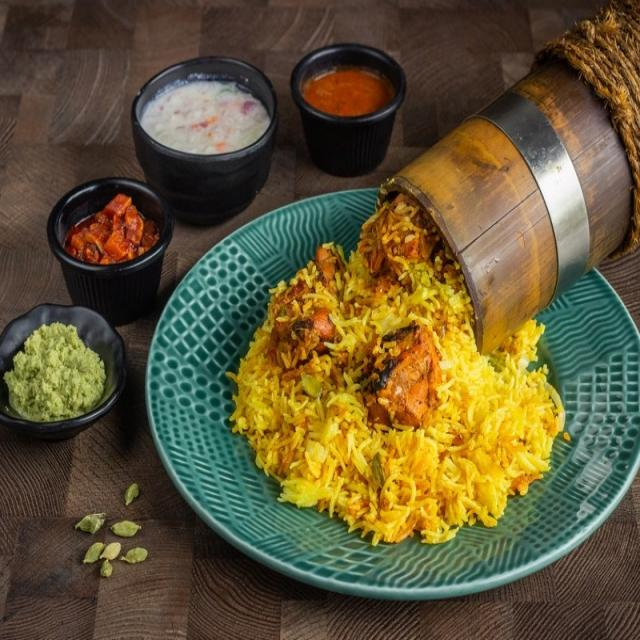Biryani: (226, 192, 576, 540)
